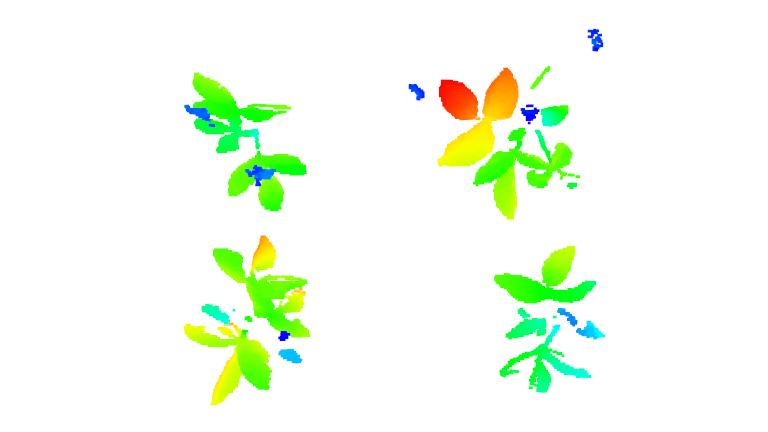mungbean: (433, 65, 582, 223), (184, 235, 316, 409), (183, 68, 307, 213), (497, 245, 606, 396)
